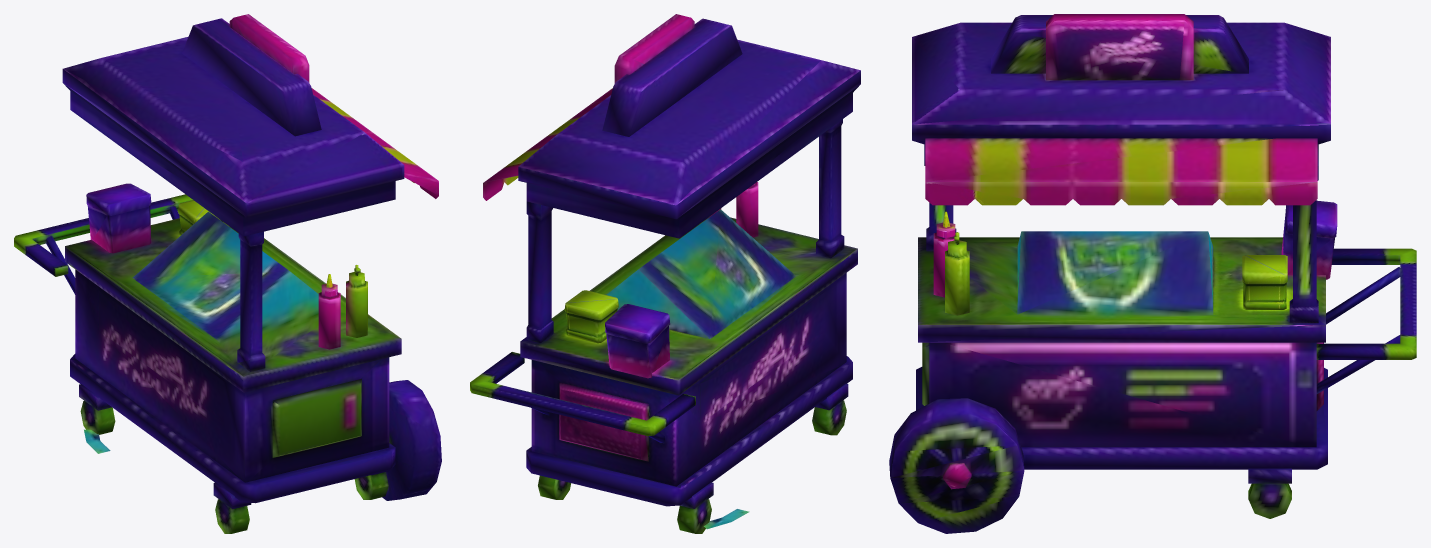
Rendered from ramen_cart_01.glb.
3 renders of one model, left to right at view 1: azimuth 30°, elevation 25°; view 2: azimuth 150°, elevation 25°; view 3: azimuth 270°, elevation 25°, orthographic. The views are drawn at different scales.
Parts seen in each view (by area): view 1: tripo_node_e304737c-d5c3-4046-a028-77a6b42d6bbe; view 2: tripo_node_e304737c-d5c3-4046-a028-77a6b42d6bbe; view 3: tripo_node_e304737c-d5c3-4046-a028-77a6b42d6bbe.
Boxes of the visible parts, x1,y1,x2,y2 form: tripo_node_e304737c-d5c3-4046-a028-77a6b42d6bbe: [14, 14, 441, 533]; tripo_node_e304737c-d5c3-4046-a028-77a6b42d6bbe: [470, 14, 860, 533]; tripo_node_e304737c-d5c3-4046-a028-77a6b42d6bbe: [889, 14, 1416, 533].
Bounding box in the file's own units: 0.541 × 0.998 × 0.998.
1 material, 1 textured.
